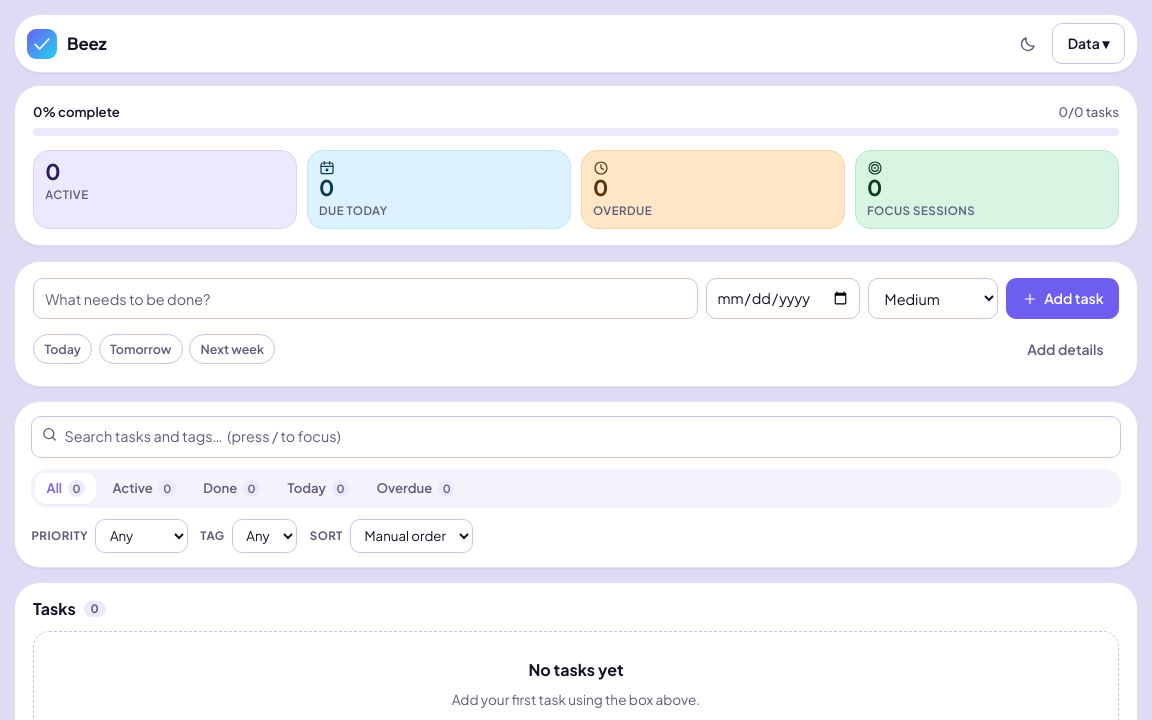
it: App › completes a task and reflects it in the stats
In the field named "Task title": (365, 299) [33,278,698,319], type "Write the submission form"
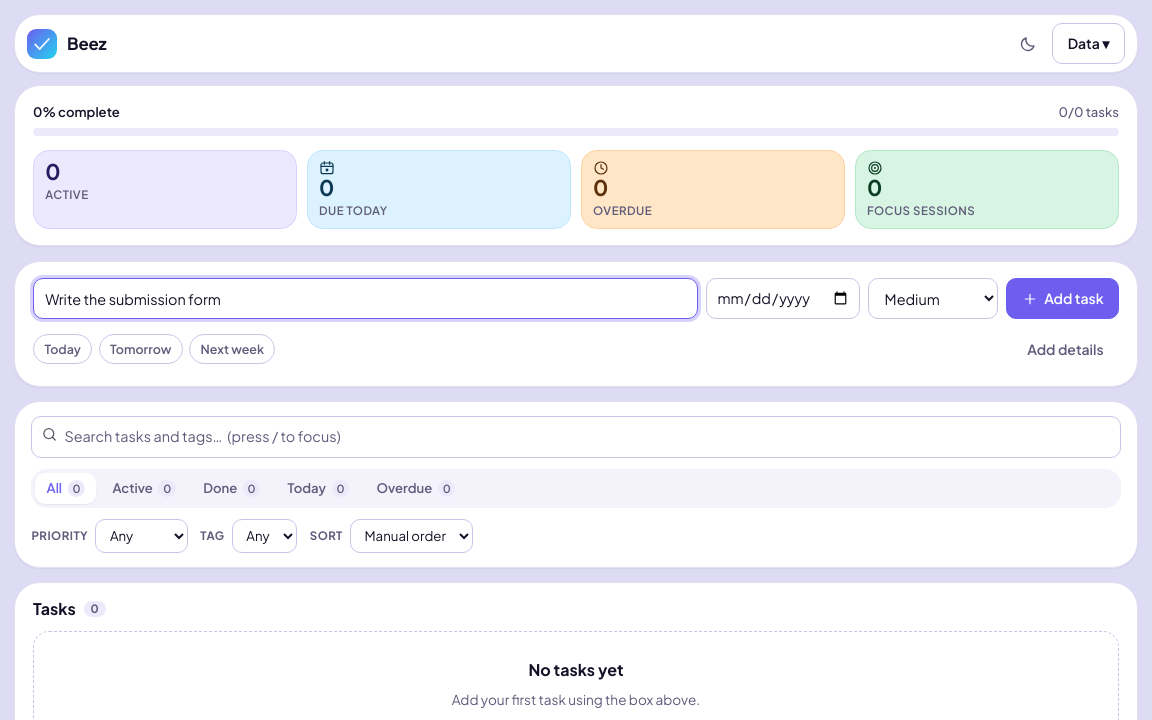
Click the button "Add task": (1063, 299) [1006,278,1119,319]
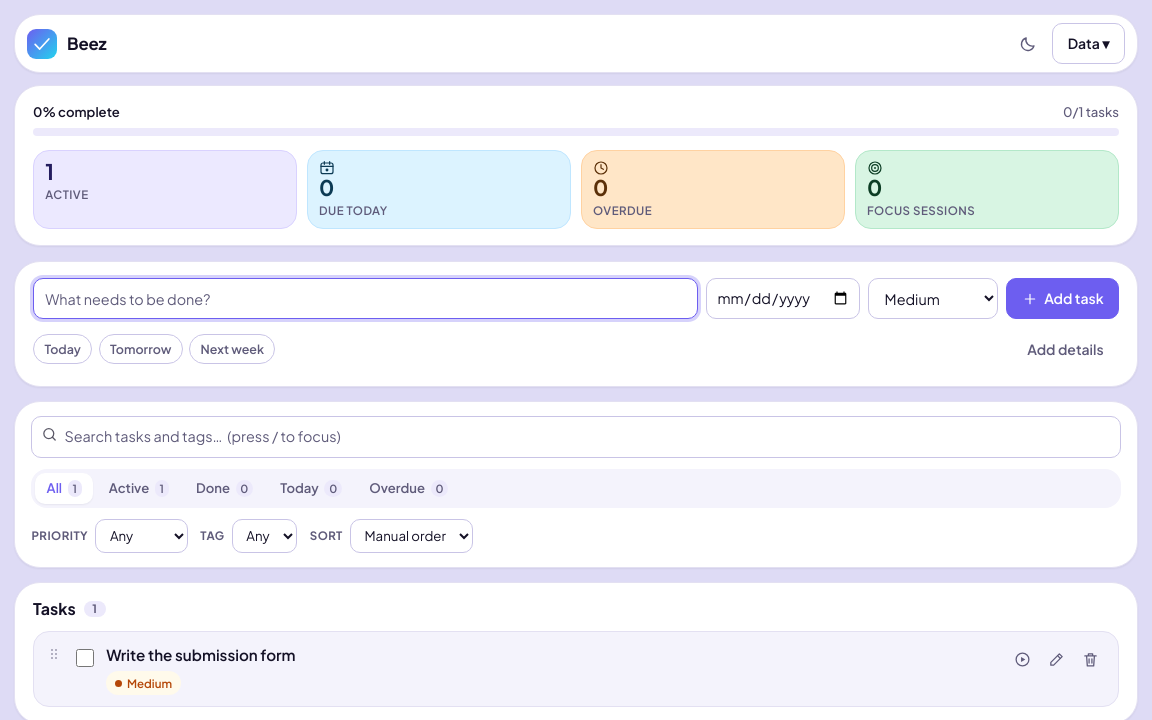
Click the checkbox named "Mark \"Write the submission form\" as complete": (85, 658) [76,649,94,667]
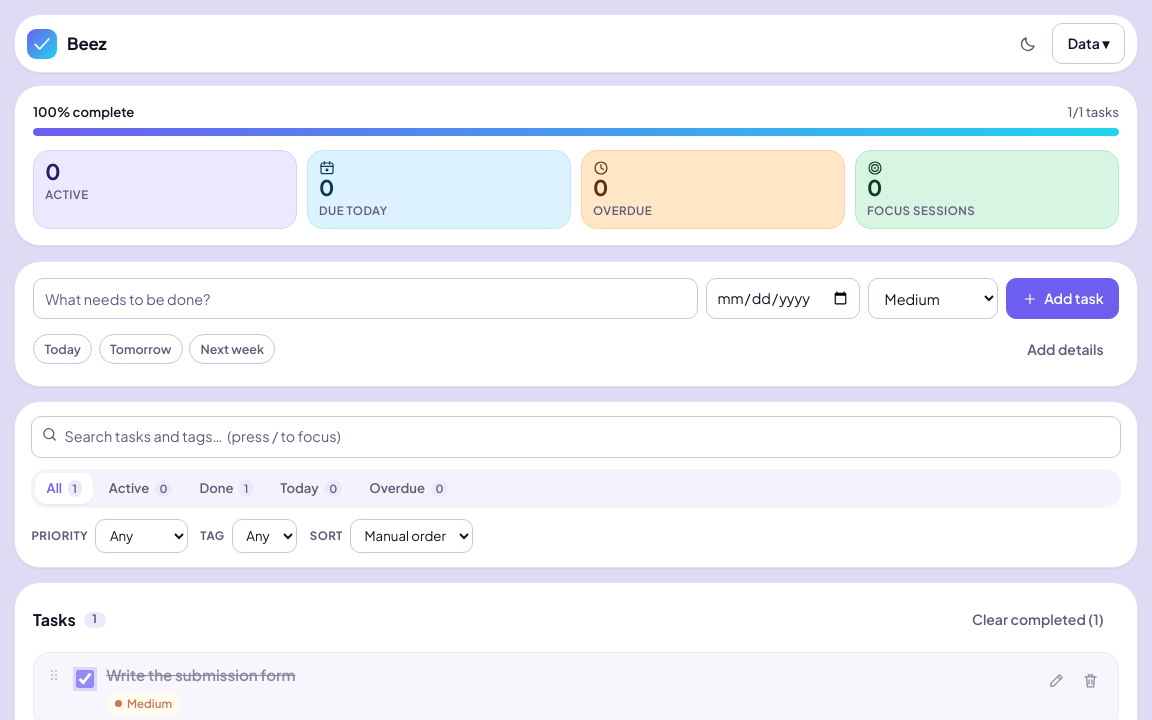
Now the button "Clear completed (1)" is shown, box [957,599,1119,640]
